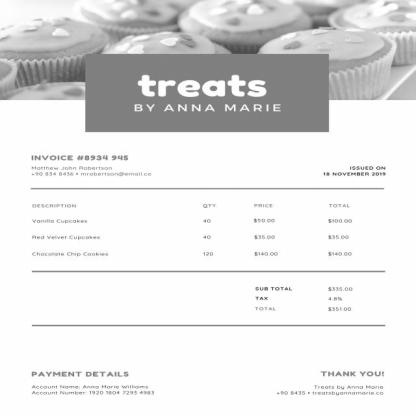Paragraph: (128, 72, 286, 116), (25, 367, 160, 399), (272, 366, 390, 398), (248, 282, 360, 315), (25, 152, 156, 179), (320, 164, 390, 179)
Table: (26, 196, 379, 266)
